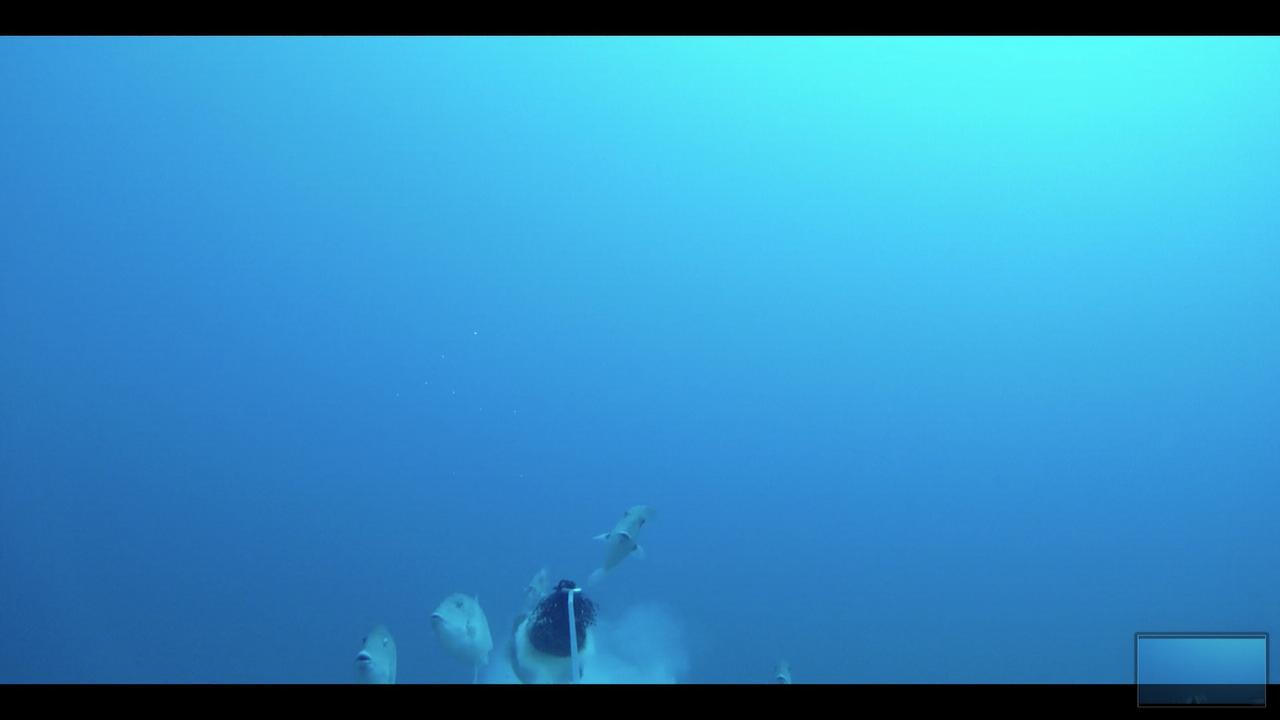balistes: (423, 586, 503, 670), (586, 496, 657, 588), (342, 611, 406, 681)
